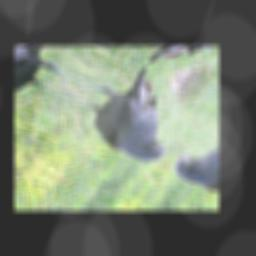Crow: (57, 52, 212, 168)
